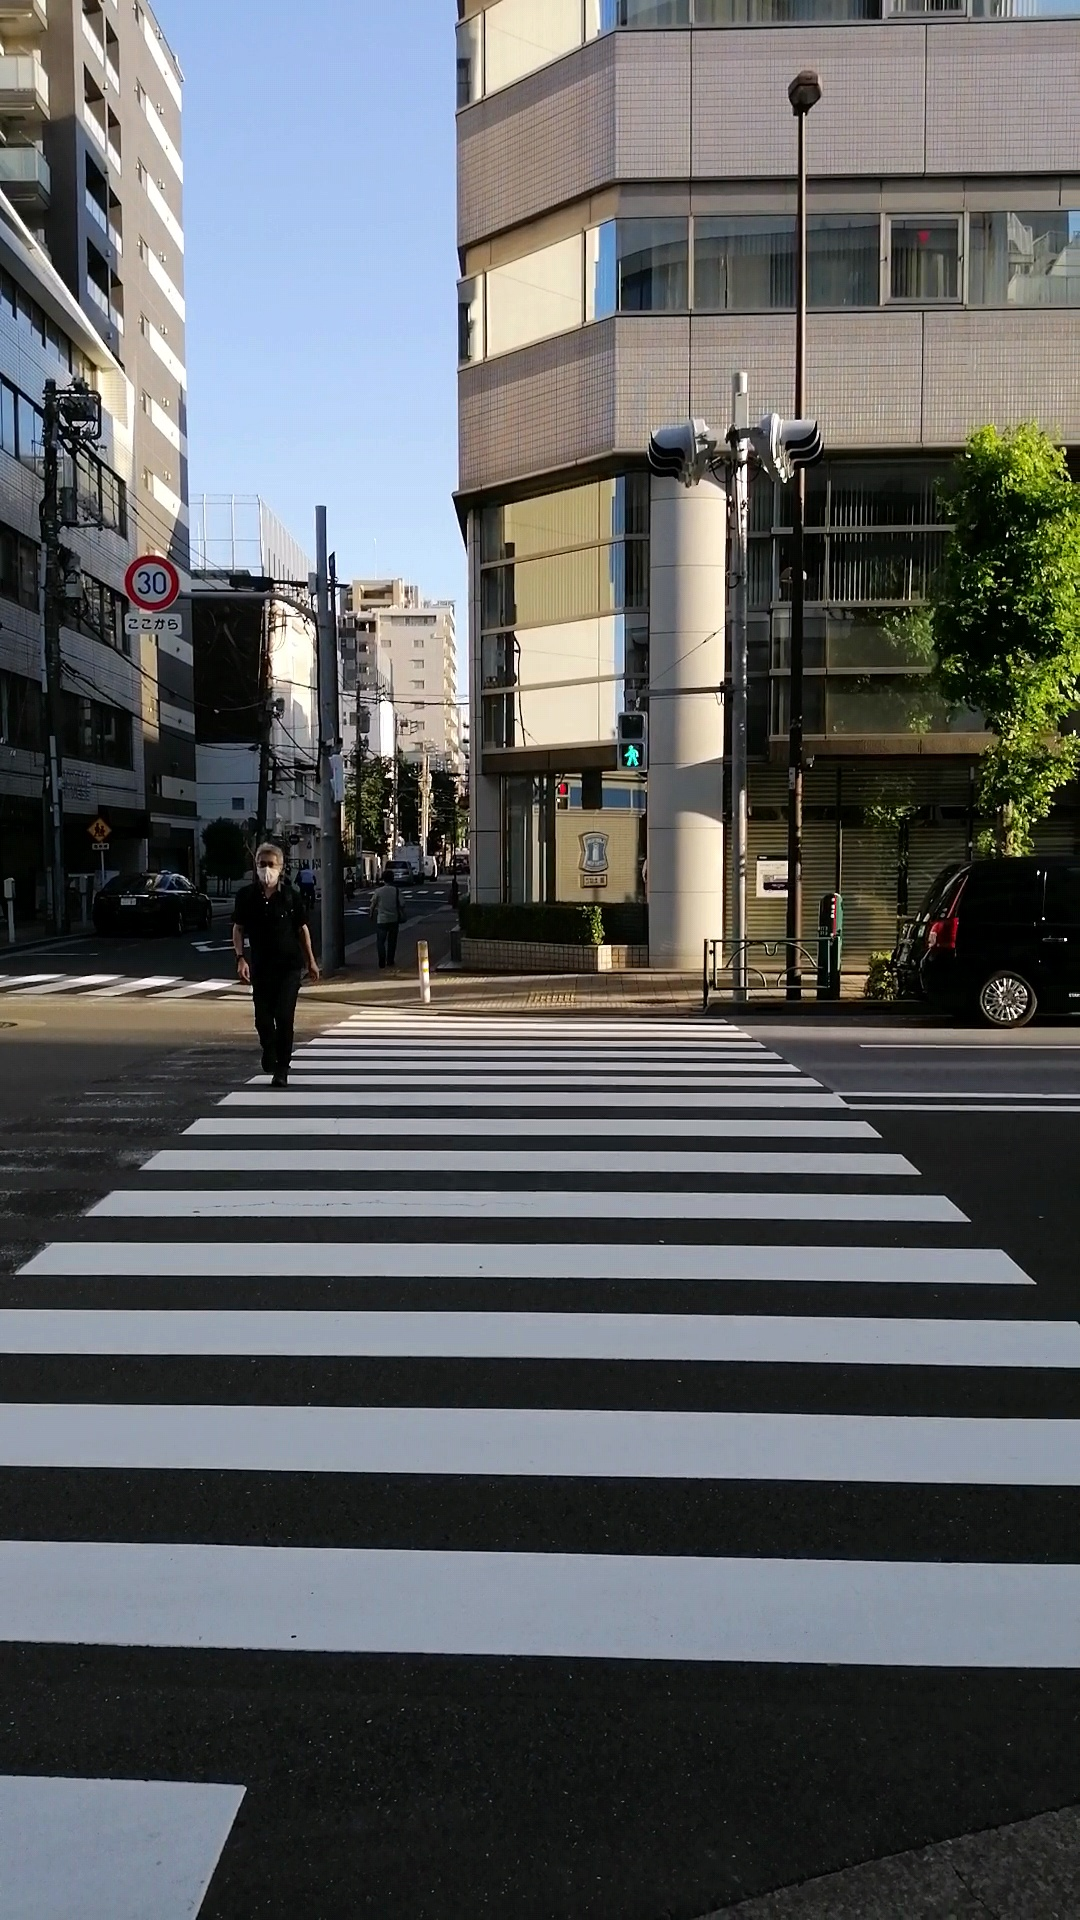green: (615, 709, 647, 773)
